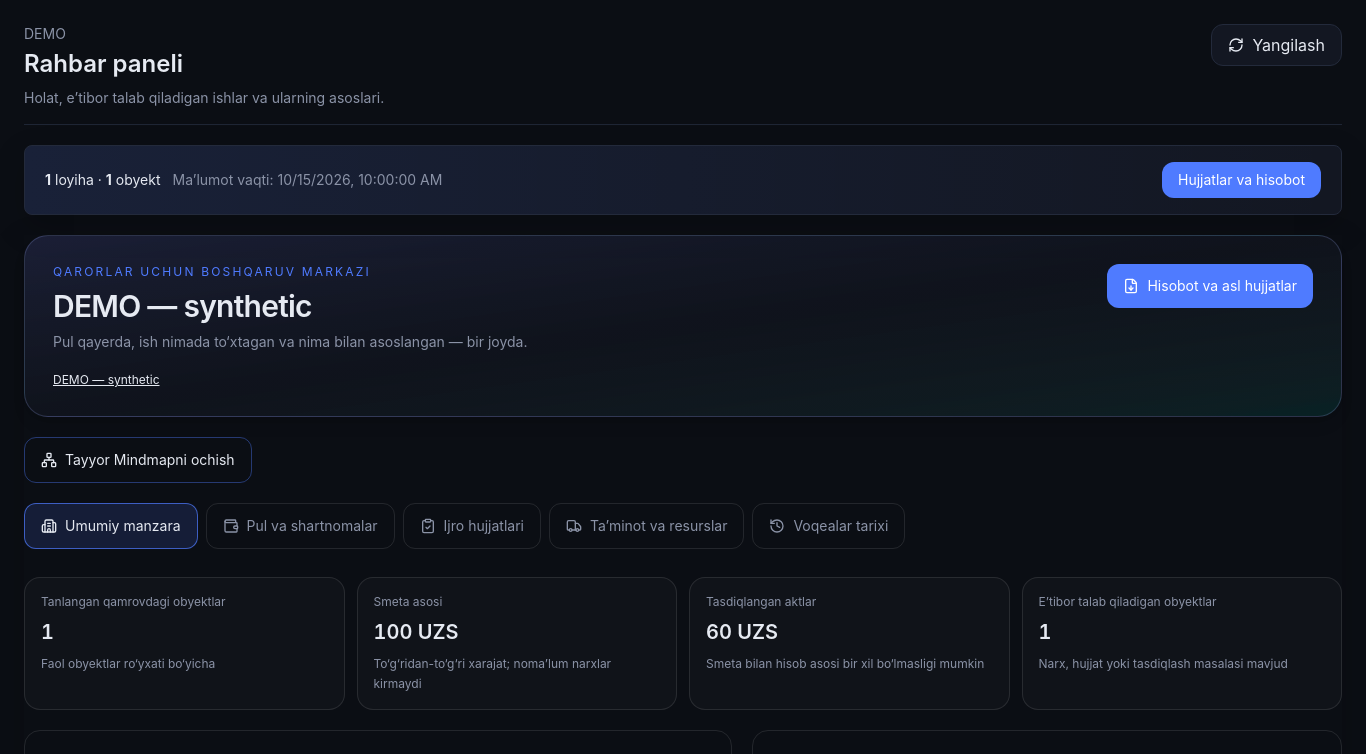
Scenario: executive product flow › opens documents inline and downloads through authenticated canonical route
The image size is (1366, 754).
Click the button "Hujjatlar va hisobot".
click(1242, 180)  # box [1162,162,1321,198]
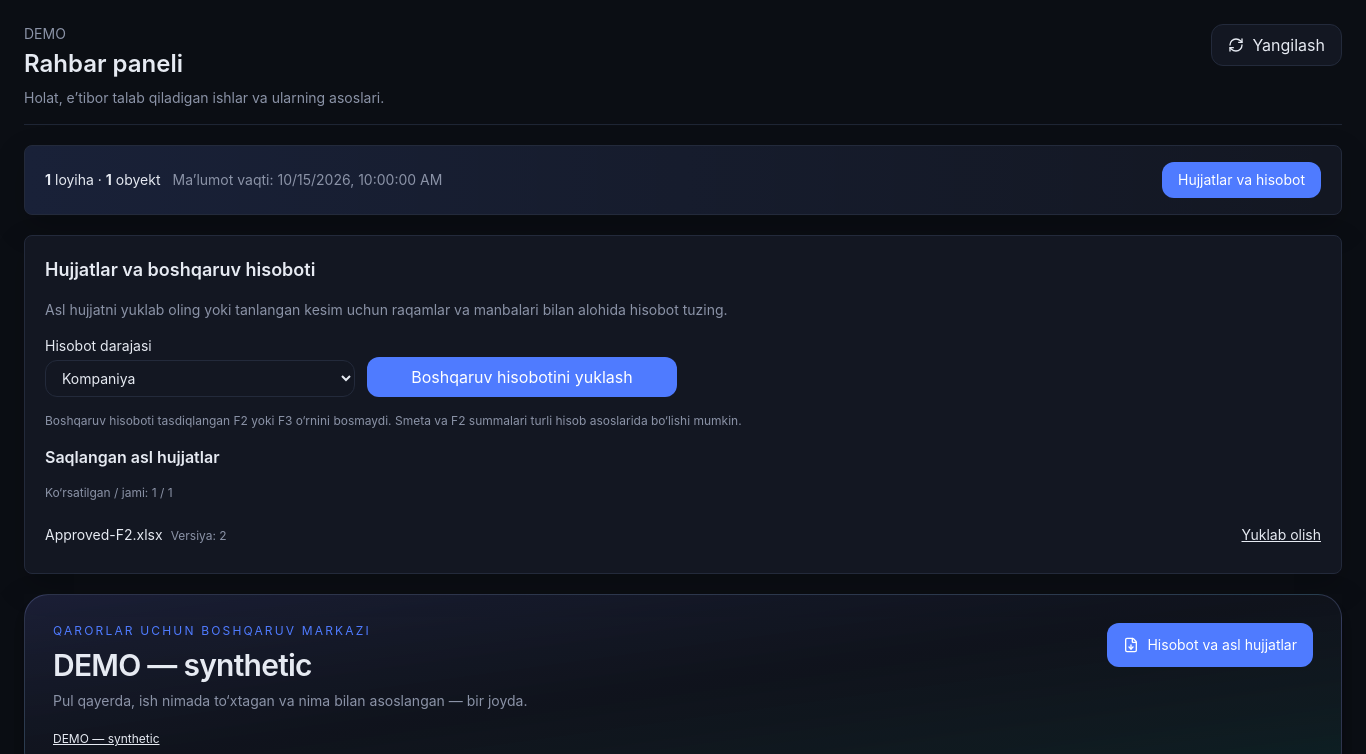
Expected: the button "Boshqaruv hisobotini yuklash" is enabled, [367,357,677,397]
